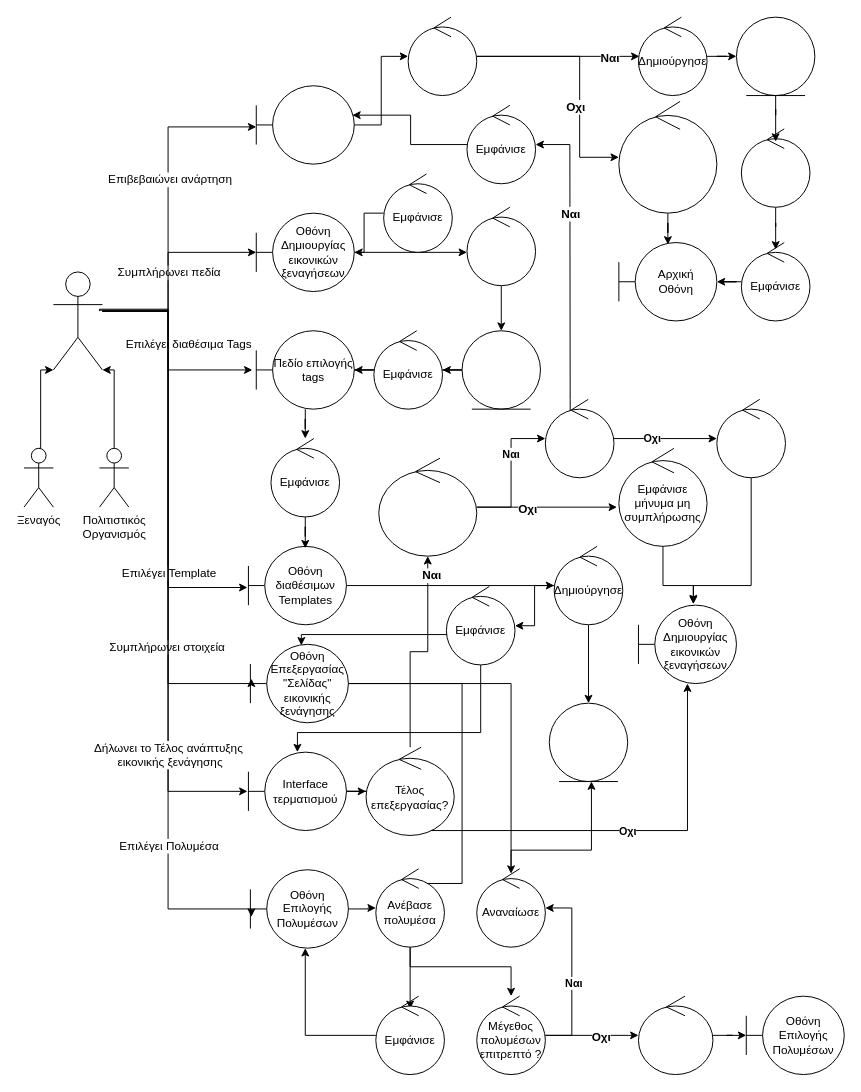
Some shapes in this 861 by 1092 pixel diagram are drawn without their labels. The box of each missing label's shape, as (x1, y1, x2, y2) in pixels:
"Σελίδα" εικονικής ξενάγησης: (548, 702, 628, 782)
Tags: (461, 330, 540, 409)
Tags OK;: (544, 398, 614, 478)
Αποθήκευσε: (740, 128, 810, 207)
Αποθήκευσε στο υπολογιστικό μέσο του χειριστή: (618, 100, 717, 213)
Εικονική ξενάγηση: (735, 16, 815, 96)
Εμφάνισε μήνυμα λάθους στα tags: (716, 398, 785, 478)
Εμφάνισε μήνυμα μεγάλου μεγέθους: (637, 995, 713, 1075)
Επιβεβαιωσε ο χειριστής;: (407, 16, 477, 96)
Οθόνη επιβεβαίωσης ανάρτησης: (255, 85, 354, 164)
Φόρτωσε: (466, 206, 536, 286)
Χειριστής: (52, 271, 102, 370)
Όλα τα πεδία συμπληρωμένα;: (378, 457, 477, 556)
